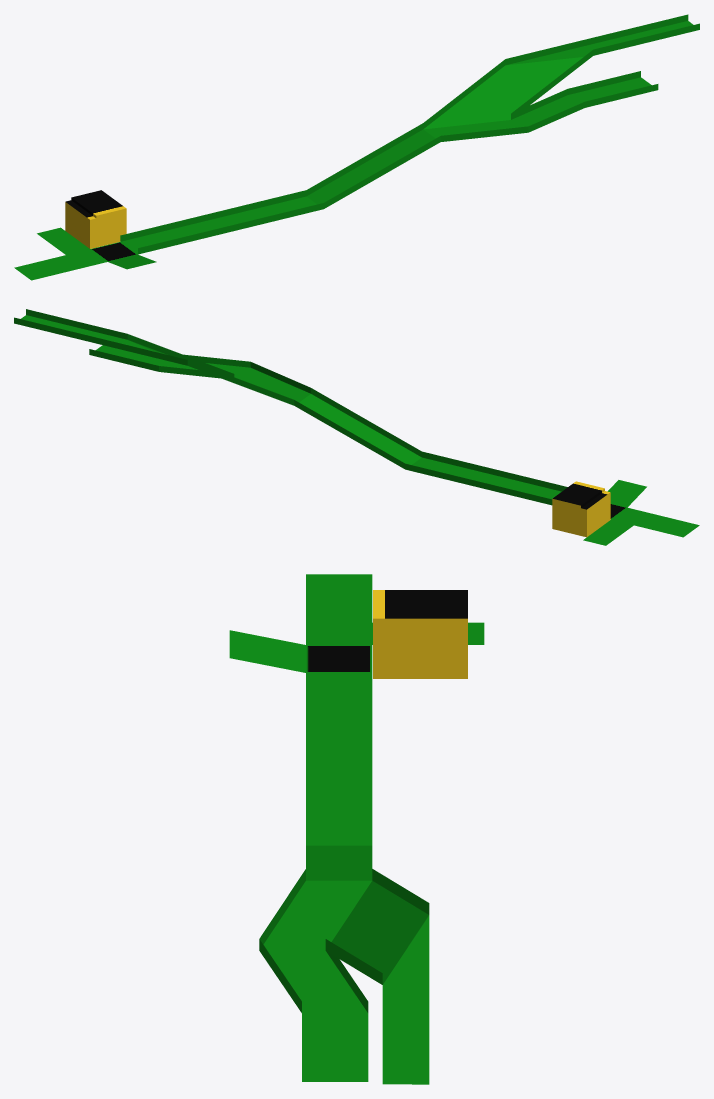
The model's file is demo-level.glb.
The picture shows the model from 3 angles, top to bottom: view 1: azimuth 30°, elevation 25°; view 2: azimuth 150°, elevation 25°; view 3: azimuth 270°, elevation 25°; orthographic projection. The views are drawn at different scales.
Parts seen in each view (by area): view 1: floor, Cube; view 2: floor, Cube; view 3: floor, Cube.
Part boxes in pixels (x1,y1,x2,y2): floor: (14, 14, 699, 280); Cube: (65, 190, 126, 248); floor: (14, 309, 699, 545); Cube: (552, 481, 610, 537); floor: (229, 574, 484, 1084); Cube: (373, 590, 467, 678).
Size of the model in its own units: 228 by 23.52 by 38.43.
2 materials, 2 textured.
